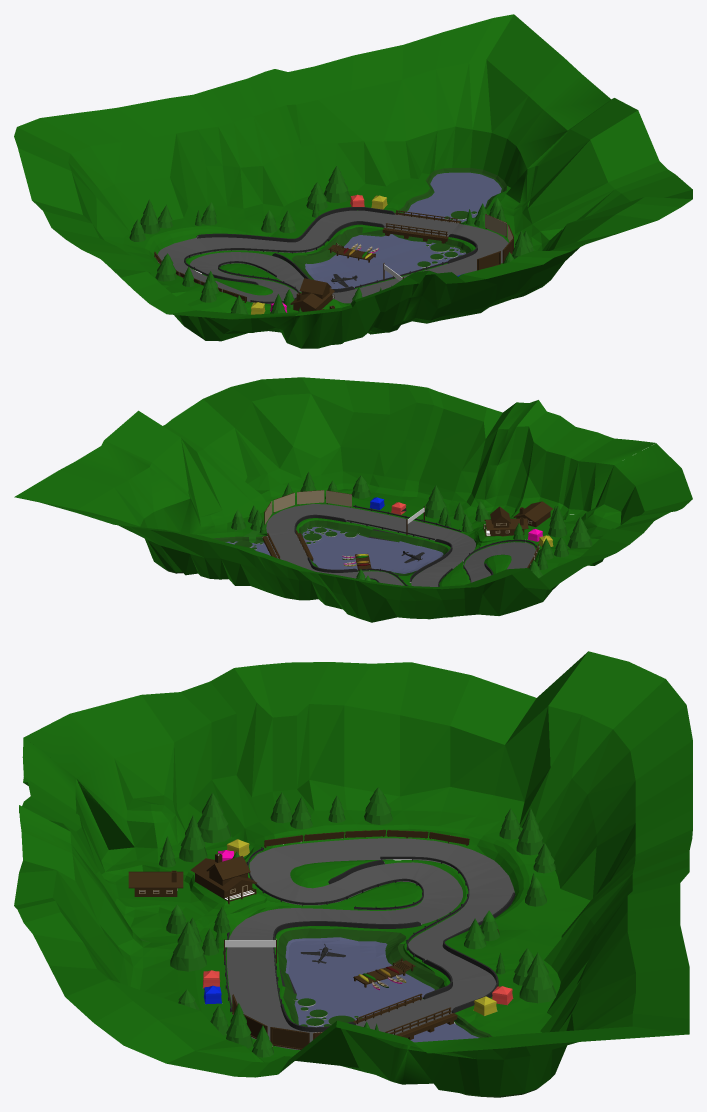
Rendered from quit.fbx.
3 renders of one model, top to bottom at view 1: azimuth 30°, elevation 25°; view 2: azimuth 150°, elevation 25°; view 3: azimuth 270°, elevation 25°, orthographic. The views are drawn at different scales.
Visible parts, largest first — view 1: RaceWay_Track1_B.003; view 2: RaceWay_Track1_B.003; view 3: RaceWay_Track1_B.003.
Part boxes in pixels (bbox=[...]): RaceWay_Track1_B.003: bbox=[14, 14, 692, 348]; RaceWay_Track1_B.003: bbox=[14, 377, 692, 622]; RaceWay_Track1_B.003: bbox=[14, 651, 692, 1097].
Bounding box in the file's own units: 9111 × 1784 × 7027.
